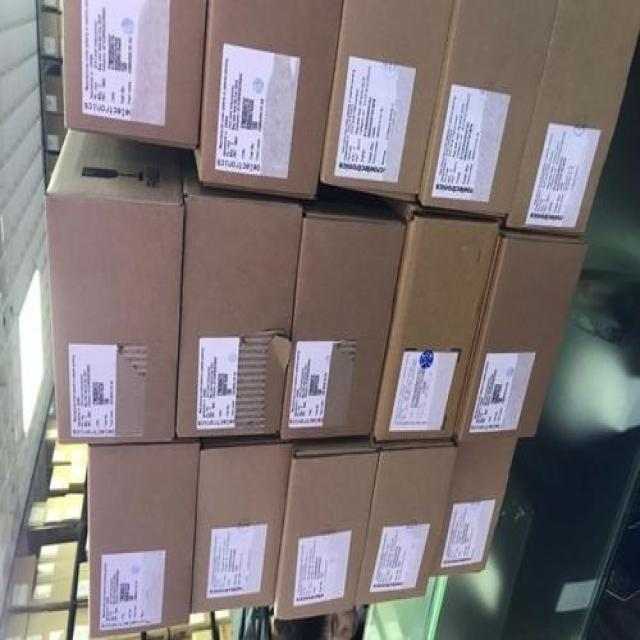Carton: (177, 195, 588, 577), (201, 0, 449, 193), (42, 131, 182, 440), (271, 442, 460, 616), (506, 2, 639, 230), (421, 0, 557, 212), (90, 445, 198, 638), (60, 0, 205, 143), (186, 444, 291, 606)
